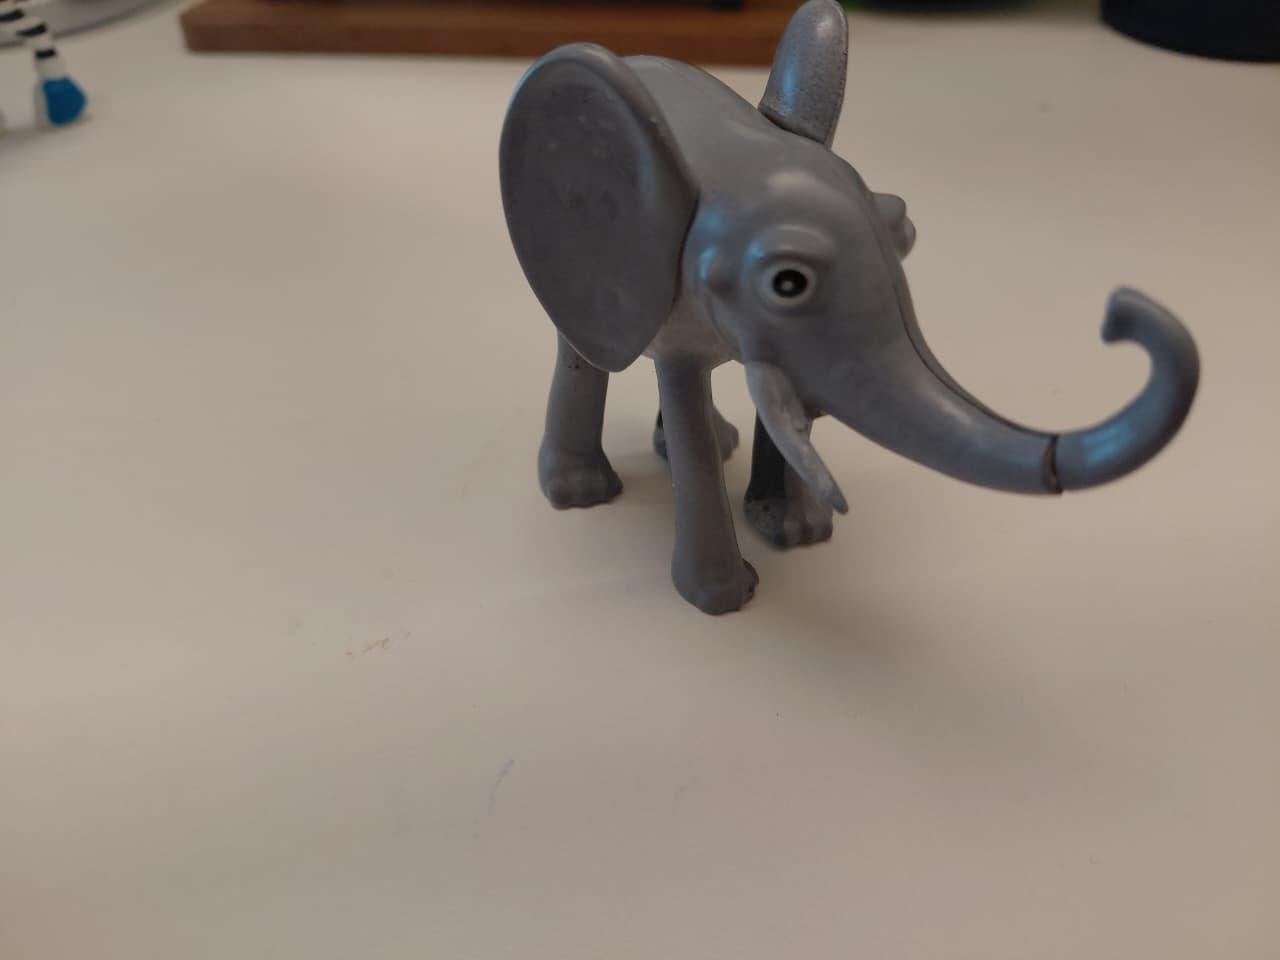elephant: (474, 6, 1209, 617)
